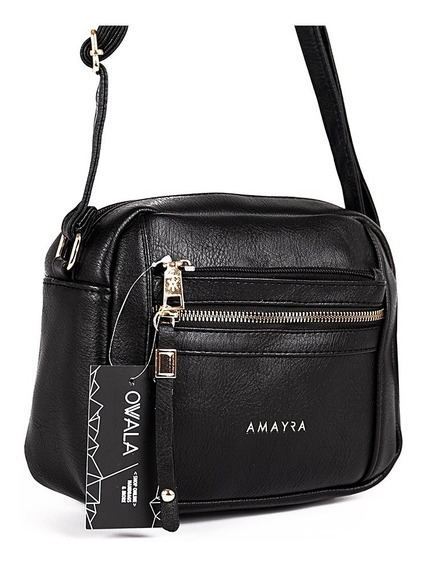cartera: (19, 24, 402, 527)
